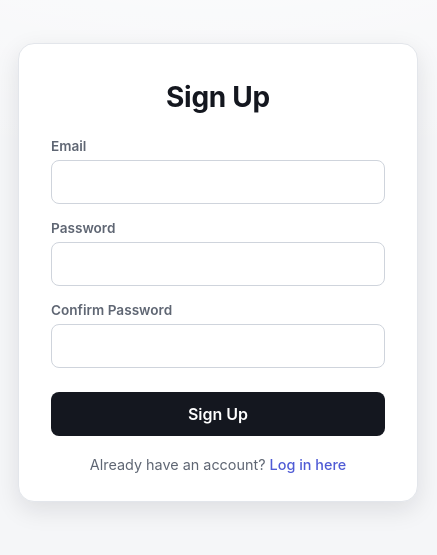
Test case: 400 shows the backend message
Step 1. Type "a@b.c" into the field labelled "Email" → (218, 182), box [51,160,385,204]
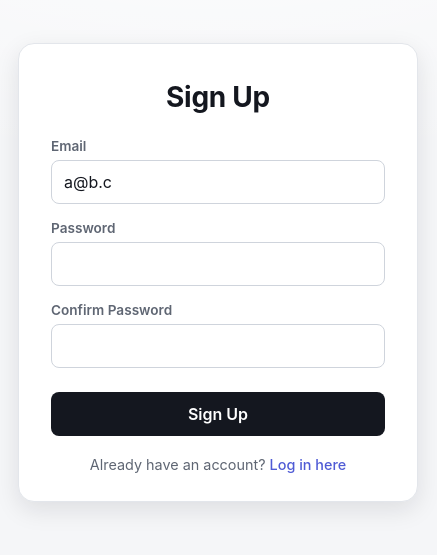
Step 2. Type "secret1" into the password field labelled "Password" → (218, 264), box [51,242,385,286]
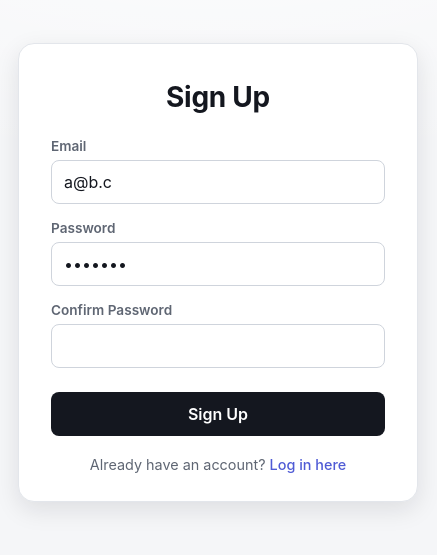
Step 3. Type "secret1" into the password field labelled "Confirm Password" → (218, 346), box [51,324,385,368]
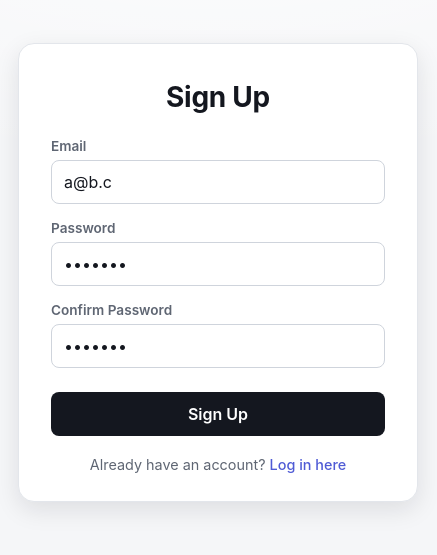
Step 4. Click the button "Sign Up" → (218, 414), box [51,392,385,436]
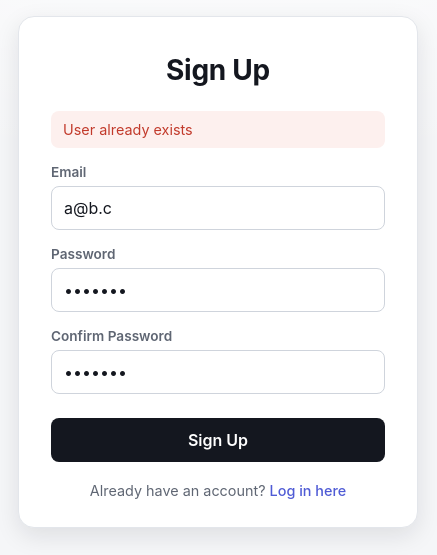
Expected: the heading "Sign Up" is shown, [166,53,270,87]
Expected: the message reads "User already exists", [63,121,193,138]
